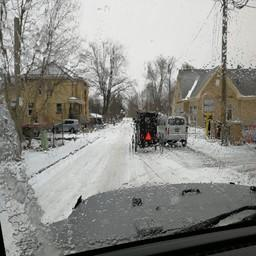Snow: (24, 118, 255, 226), (185, 79, 199, 100), (91, 112, 103, 117)
